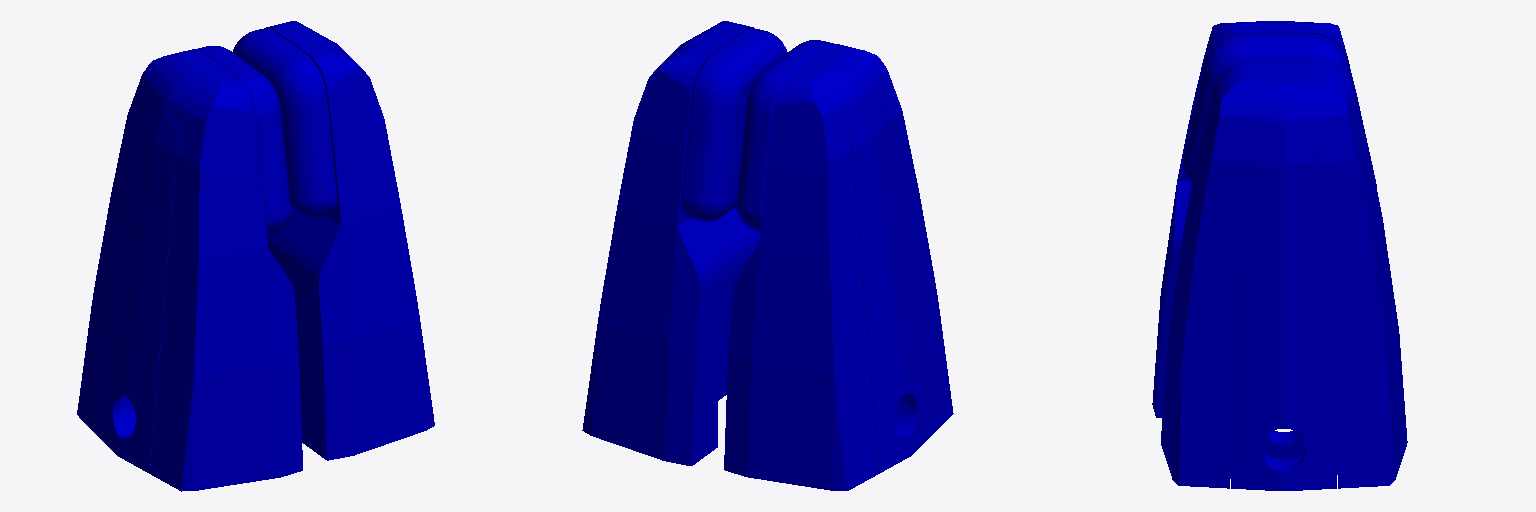
URDF robot description (iiwa14):
<?xml version="1.0" ?>
<!-- =================================================================================== -->
<!-- |    This document was autogenerated by xacro from iiwa14.urdf.xacro              | -->
<!-- |    EDITING THIS FILE BY HAND IS NOT RECOMMENDED                                 | -->
<!-- =================================================================================== -->
<robot name="iiwa14">
  <material name="Black">
    <color rgba="0.0 0.0 0.0 1.0"/>
  </material>
  <material name="Blue">
    <color rgba="0.0 0.0 0.8 1.0"/>
  </material>
  <material name="Green">
    <color rgba="0.0 0.8 0.0 1.0"/>
  </material>
  <material name="Grey">
    <color rgba="0.4 0.4 0.4 1.0"/>
  </material>
  <material name="Orange">
    <color rgba="1.0 0.4235294117647059 0.0392156862745098 1.0"/>
  </material>
  <material name="Brown">
    <color rgba="0.8705882352941177 0.8117647058823529 0.7647058823529411 1.0"/>
  </material>
  <material name="Red">
    <color rgba="0.8 0.0 0.0 1.0"/>
  </material>
  <material name="White">
    <color rgba="1.0 1.0 1.0 1.0"/>
  </material>
  <!-- Fix to world just for testing -->
  <link name="world"/>
  <!--joint between {parent} and link_0-->
  <joint name="world_joint" type="fixed">
    <origin rpy="0 0 0" xyz="0 0 0.0"/>
    <parent link="world"/>
    <child link="link_0"/>
  </joint>
  <link name="link_0">
    <inertial>
      <origin rpy="0 0 0" xyz="-0.1 0 0.07"/>
      <mass value="5"/>
      <inertia ixx="0.05" ixy="0" ixz="0" iyy="0.06" iyz="0" izz="0.03"/>
    </inertial>
    <visual>
      <origin rpy="0 0 0" xyz="0 0 0"/>
      <geometry>
        <mesh filename="model://isir-iiwa14/meshes/iiwa14/visual/link_0.stl"/>
      </geometry>
      <material name="Grey"/>
    </visual>
    <collision>
      <origin rpy="0 0 0" xyz="0 0 0"/>
      <geometry>
        <mesh filename="model://isir-iiwa14/meshes/iiwa14/collision/link_0_s.stl"/>
      </geometry>
      <material name="Grey"/>
    </collision>
    <self_collision_checking>
      <origin rpy="0 0 0" xyz="0 0 0"/>
      <geometry>
        <capsule length="0.25" radius="0.15"/>
      </geometry>
    </self_collision_checking>
  </link>
  <!-- joint between link_0 and link_1 -->
  <joint name="joint_0" type="revolute">
    <parent link="link_0"/>
    <child link="link_1"/>
    <origin rpy="0 0 0" xyz="0 0 0.1575"/>
    <axis xyz="0 0 1"/>
    <limit effort="300" lower="-2.9670597283903604" upper="2.9670597283903604" velocity="10"/>
    <safety_controller k_position="100" k_velocity="2" soft_lower_limit="-2.9321531433504737" soft_upper_limit="2.9321531433504737"/>
    <dynamics damping="0.0" friction="0.0"/>
  </joint>
  <link name="link_1">
    <inertial>
      <origin rpy="0 0 0" xyz="0 -0.03 0.12"/>
      <mass value="4"/>
      <inertia ixx="0.1" ixy="0" ixz="0" iyy="0.09" iyz="0" izz="0.02"/>
    </inertial>
    <visual>
      <origin rpy="0 0 0" xyz="0 0 0"/>
      <geometry>
        <mesh filename="model://isir-iiwa14/meshes/iiwa14/visual/link_1.stl"/>
      </geometry>
      <material name="Orange"/>
    </visual>
    <collision>
      <origin rpy="0 0 0" xyz="0 0 0"/>
      <geometry>
        <mesh filename="model://isir-iiwa14/meshes/iiwa14/collision/link_1_s.stl"/>
      </geometry>
      <material name="Orange"/>
    </collision>
  </link>
  <!-- joint between link_1 and link_2 -->
  <joint name="joint_1" type="revolute">
    <parent link="link_1"/>
    <child link="link_2"/>
    <origin rpy="1.5707963267948966   0 3.141592653589793" xyz="0 0 0.2025"/>
    <axis xyz="0 0 1"/>
    <limit effort="300" lower="-2.0943951023931953" upper="2.0943951023931953" velocity="10"/>
    <safety_controller k_position="100" k_velocity="2" soft_lower_limit="-2.0594885173533086" soft_upper_limit="2.0594885173533086"/>
    <dynamics damping="0.0" friction="0.0"/>
  </joint>
  <link name="link_2">
    <inertial>
      <origin rpy="0 0 0" xyz="0.0003 0.059 0.042"/>
      <mass value="4"/>
      <inertia ixx="0.05" ixy="0" ixz="0" iyy="0.018" iyz="0" izz="0.044"/>
    </inertial>
    <visual>
      <origin rpy="0 0 0" xyz="0 0 0"/>
      <geometry>
        <mesh filename="model://isir-iiwa14/meshes/iiwa14/visual/link_2.stl"/>
      </geometry>
      <material name="Orange"/>
    </visual>
    <collision>
      <origin rpy="0 0 0" xyz="0 0 0"/>
      <geometry>
        <mesh filename="model://isir-iiwa14/meshes/iiwa14/collision/link_2_s.stl"/>
      </geometry>
      <material name="Orange"/>
    </collision>
  </link>
  <!-- joint between link_2 and link_3 -->
  <joint name="joint_2" type="revolute">
    <parent link="link_2"/>
    <child link="link_3"/>
    <origin rpy="1.5707963267948966 0 3.141592653589793" xyz="0 0.2045 0"/>
    <axis xyz="0 0 1"/>
    <limit effort="300" lower="-2.9670597283903604" upper="2.9670597283903604" velocity="10"/>
    <safety_controller k_position="100" k_velocity="2" soft_lower_limit="-2.9321531433504737" soft_upper_limit="2.9321531433504737"/>
    <dynamics damping="0.0" friction="0.0"/>
  </joint>
  <link name="link_3">
    <inertial>
      <origin rpy="0 0 0" xyz="0 0.03 0.13"/>
      <mass value="3"/>
      <inertia ixx="0.08" ixy="0" ixz="0" iyy="0.075" iyz="0" izz="0.01"/>
    </inertial>
    <visual>
      <origin rpy="0 0 0" xyz="0 0 0"/>
      <geometry>
        <mesh filename="model://isir-iiwa14/meshes/iiwa14/visual/link_3.stl"/>
      </geometry>
      <material name="Orange"/>
    </visual>
    <collision>
      <origin rpy="0 0 0" xyz="0 0 0"/>
      <geometry>
        <mesh filename="model://isir-iiwa14/meshes/iiwa14/collision/link_3_s.stl"/>
      </geometry>
      <material name="Orange"/>
    </collision>
  </link>
  <!-- joint between link_3 and link_4 -->
  <joint name="joint_3" type="revolute">
    <parent link="link_3"/>
    <child link="link_4"/>
    <origin rpy="1.5707963267948966 0 0" xyz="0 0 0.2155"/>
    <axis xyz="0 0 1"/>
    <limit effort="300" lower="-2.0943951023931953" upper="2.0943951023931953" velocity="10"/>
    <safety_controller k_position="100" k_velocity="2" soft_lower_limit="-2.0594885173533086" soft_upper_limit="2.0594885173533086"/>
    <dynamics damping="0.0" friction="0.0"/>
  </joint>
  <link name="link_4">
    <inertial>
      <origin rpy="0 0 0" xyz="0 0.067 0.034"/>
      <mass value="2.7"/>
      <inertia ixx="0.03" ixy="0" ixz="0" iyy="0.01" iyz="0" izz="0.029"/>
    </inertial>
    <visual>
      <origin rpy="0 0 0" xyz="0 0 0"/>
      <geometry>
        <mesh filename="model://isir-iiwa14/meshes/iiwa14/visual/link_4.stl"/>
      </geometry>
      <material name="Orange"/>
    </visual>
    <collision>
      <origin rpy="0 0 0" xyz="0 0 0"/>
      <geometry>
        <mesh filename="model://isir-iiwa14/meshes/iiwa14/collision/link_4_s.stl"/>
      </geometry>
      <material name="Orange"/>
    </collision>
  </link>
  <!-- joint between link_4 and link_5 -->
  <joint name="joint_4" type="revolute">
    <parent link="link_4"/>
    <child link="link_5"/>
    <origin rpy="-1.5707963267948966 3.141592653589793 0" xyz="0 0.1845 0"/>
    <axis xyz="0 0 1"/>
    <limit effort="300" lower="-2.9670597283903604" upper="2.9670597283903604" velocity="10"/>
    <safety_controller k_position="100" k_velocity="2" soft_lower_limit="-2.9321531433504737" soft_upper_limit="2.9321531433504737"/>
    <dynamics damping="0.0" friction="0.0"/>
  </joint>
  <link name="link_5">
    <inertial>
      <origin rpy="0 0 0" xyz="0.0001 0.021 0.076"/>
      <mass value="1.7"/>
      <inertia ixx="0.02" ixy="0" ixz="0" iyy="0.018" iyz="0" izz="0.005"/>
    </inertial>
    <visual>
      <origin rpy="0 0 0" xyz="0 0 0"/>
      <geometry>
        <mesh filename="model://isir-iiwa14/meshes/iiwa14/visual/link_5.stl"/>
      </geometry>
      <material name="Orange"/>
    </visual>
    <collision>
      <origin rpy="0 0 0" xyz="0 0 0"/>
      <geometry>
        <mesh filename="model://isir-iiwa14/meshes/iiwa14/collision/link_5_s.stl"/>
      </geometry>
      <material name="Orange"/>
    </collision>
  </link>
  <!-- joint between link_5 and link_6 -->
  <joint name="joint_5" type="revolute">
    <parent link="link_5"/>
    <child link="link_6"/>
    <origin rpy="1.5707963267948966 0 0" xyz="0 0 0.2155"/>
    <axis xyz="0 0 1"/>
    <limit effort="300" lower="-2.0943951023931953" upper="2.0943951023931953" velocity="10"/>
    <safety_controller k_position="100" k_velocity="2" soft_lower_limit="-2.0594885173533086" soft_upper_limit="2.0594885173533086"/>
    <dynamics damping="0.0" friction="0.0"/>
  </joint>
  <link name="link_6">
    <inertial>
      <origin rpy="0 0 0" xyz="0 0.0006 0.0004"/>
      <mass value="1.8"/>
      <inertia ixx="0.025" ixy="0" ixz="0" iyy="0.0136" iyz="0" izz="0.0247"/>
    </inertial>
    <visual>
      <origin rpy="0 0 0" xyz="0 0 0"/>
      <geometry>
        <mesh filename="model://isir-iiwa14/meshes/iiwa14/visual/link_6.stl"/>
      </geometry>
      <material name="Orange"/>
    </visual>
    <collision>
      <origin rpy="0 0 0" xyz="0 0 0"/>
      <geometry>
        <mesh filename="model://isir-iiwa14/meshes/iiwa14/collision/link_6_s.stl"/>
      </geometry>
      <material name="Orange"/>
    </collision>
  </link>
  <!-- joint between link_6 and link_7 -->
  <joint name="joint_6" type="revolute">
    <parent link="link_6"/>
    <child link="link_7"/>
    <origin rpy="-1.5707963267948966 3.141592653589793 0" xyz="0 0.081 0"/>
    <axis xyz="0 0 1"/>
    <limit effort="300" lower="-3.0543261909900763" upper="3.0543261909900763" velocity="10"/>
    <safety_controller k_position="100" k_velocity="2" soft_lower_limit="-3.01941960595019" soft_upper_limit="3.01941960595019"/>
    <dynamics damping="0.0" friction="0.0"/>
  </joint>
  <link name="link_7">
    <inertial>
      <origin rpy="0 0 0" xyz="0 0 0.02"/>
      <mass value="0.42857142857142855"/>
      <!--this is for the MFT Pneumatisch flange-->
      <inertia ixx="0.01" ixy="0" ixz="0" iyy="0.01" iyz="0" izz="0.01"/>
    </inertial>
    <visual>
      <origin rpy="0 0 0" xyz="0 0 0"/>
      <geometry>
        <mesh filename="model://isir-iiwa14/meshes/iiwa14/visual/link_7.stl"/>
        <!-- <mesh filename="model://isir-iiwa14/meshes/iiwa14/visual/link_7-MF-Touch-pneumatisch.stl"/> -->
      </geometry>
      <material name="Grey"/>
    </visual>
    <collision>
      <origin rpy="0 0 0" xyz="0 0 0"/>
      <geometry>
        <mesh filename="model://isir-iiwa14/meshes/iiwa14/collision/link_7_s.stl"/>
        <!-- <mesh filename="model://isir-iiwa14/meshes/iiwa14/collision/link_7-MF-Touch-pneumatisch_s.stl"/> -->
      </geometry>
      <material name="Grey"/>
    </collision>
  </link>

  <joint name="iiwa7_joint_ee" type="fixed">
    <parent link="link_7"/>
    <child link="iiwa7_link_ee"/>
    <origin xyz="0 0 0.126" rpy="0 0 0"/>
  </joint>

  <!-- Link0 -->
  <gazebo reference="iiwa_link_0">
    <material>Gazebo/Grey</material>
    <mu1>0.2</mu1>
    <mu2>0.2</mu2>
  </gazebo>
  <!-- Link1 -->
  <gazebo reference="iiwa_link_1">
    <material>Gazebo/Orange</material>
    <mu1>0.2</mu1>
    <mu2>0.2</mu2>
  </gazebo>
  <!-- Link2 -->
  <gazebo reference="iiwa_link_2">
    <material>Gazebo/Orange</material>
    <mu1>0.2</mu1>
    <mu2>0.2</mu2>
  </gazebo>
  <!-- Link3 -->
  <gazebo reference="iiwa_link_3">
    <material>Gazebo/Orange</material>
    <mu1>0.2</mu1>
    <mu2>0.2</mu2>
  </gazebo>
  <!-- Link4 -->
  <gazebo reference="iiwa_link_4">
    <material>Gazebo/Orange</material>
    <mu1>0.2</mu1>
    <mu2>0.2</mu2>
  </gazebo>
  <!-- Link5 -->
  <gazebo reference="iiwa_link_5">
    <material>Gazebo/Orange</material>
    <mu1>0.2</mu1>
    <mu2>0.2</mu2>
  </gazebo>
  <!-- Link6 -->
  <gazebo reference="iiwa_link_6">
    <material>Gazebo/Orange</material>
    <mu1>0.2</mu1>
    <mu2>0.2</mu2>
  </gazebo>
  <!-- Link7 -->
  <gazebo reference="iiwa_link_7">
    <material>Gazebo/Grey</material>
    <mu1>0.2</mu1>
    <mu2>0.2</mu2>
  </gazebo>
  <transmission name="iiwa_tran_1">
    <robotNamespace>/iiwa</robotNamespace>
    <type>transmission_interface/SimpleTransmission</type>
    <joint name="iiwa_joint_1">
      <hardwareInterface>PositionJointInterface</hardwareInterface>
    </joint>
    <actuator name="iiwa_motor_1">
      <hardwareInterface>PositionJointInterface</hardwareInterface>
      <mechanicalReduction>1</mechanicalReduction>
    </actuator>
  </transmission>
  <transmission name="iiwa_tran_2">
    <robotNamespace>/iiwa</robotNamespace>
    <type>transmission_interface/SimpleTransmission</type>
    <joint name="iiwa_joint_2">
      <hardwareInterface>PositionJointInterface</hardwareInterface>
    </joint>
    <actuator name="iiwa_motor_2">
      <hardwareInterface>PositionJointInterface</hardwareInterface>
      <mechanicalReduction>1</mechanicalReduction>
    </actuator>
  </transmission>
  <transmission name="iiwa_tran_3">
    <robotNamespace>/iiwa</robotNamespace>
    <type>transmission_interface/SimpleTransmission</type>
    <joint name="iiwa_joint_3">
      <hardwareInterface>PositionJointInterface</hardwareInterface>
    </joint>
    <actuator name="iiwa_motor_3">
      <hardwareInterface>PositionJointInterface</hardwareInterface>
      <mechanicalReduction>1</mechanicalReduction>
    </actuator>
  </transmission>
  <transmission name="iiwa_tran_4">
    <robotNamespace>/iiwa</robotNamespace>
    <type>transmission_interface/SimpleTransmission</type>
    <joint name="iiwa_joint_4">
      <hardwareInterface>PositionJointInterface</hardwareInterface>
    </joint>
    <actuator name="iiwa_motor_4">
      <hardwareInterface>PositionJointInterface</hardwareInterface>
      <mechanicalReduction>1</mechanicalReduction>
    </actuator>
  </transmission>
  <transmission name="iiwa_tran_5">
    <robotNamespace>/iiwa</robotNamespace>
    <type>transmission_interface/SimpleTransmission</type>
    <joint name="iiwa_joint_5">
      <hardwareInterface>PositionJointInterface</hardwareInterface>
    </joint>
    <actuator name="iiwa_motor_5">
      <hardwareInterface>PositionJointInterface</hardwareInterface>
      <mechanicalReduction>1</mechanicalReduction>
    </actuator>
  </transmission>
  <transmission name="iiwa_tran_6">
    <robotNamespace>/iiwa</robotNamespace>
    <type>transmission_interface/SimpleTransmission</type>
    <joint name="iiwa_joint_6">
      <hardwareInterface>PositionJointInterface</hardwareInterface>
    </joint>
    <actuator name="iiwa_motor_6">
      <hardwareInterface>PositionJointInterface</hardwareInterface>
      <mechanicalReduction>1</mechanicalReduction>
    </actuator>
  </transmission>
  <transmission name="iiwa_tran_7">
    <robotNamespace>/iiwa</robotNamespace>
    <type>transmission_interface/SimpleTransmission</type>
    <joint name="iiwa_joint_7">
      <hardwareInterface>PositionJointInterface</hardwareInterface>
    </joint>
    <actuator name="iiwa_motor_7">
      <hardwareInterface>PositionJointInterface</hardwareInterface>
      <mechanicalReduction>1</mechanicalReduction>
    </actuator>
  </transmission>

  <!-- SCHUNK EGP 40 EEF -->
  <!-- Base -->
  <link name="iiwa7_link_ee">
    <inertial>
      <mass value="0.6" />
      <origin rpy="0 0 0" xyz="0.00078059 -0.00070996 0.04726637" />
      <inertia ixx="0.0011357" ixy="-0.00000024461" ixz="0.000014912" iyy="0.0012832" iyz="0.0000085651" izz="0.00066545" />
    </inertial>
    <visual>
      <origin rpy="0 0 0" xyz="0 0 0" />
      <geometry>
        <mesh filename="model://schunk-egp-40/meshes/visual/obj/schunk_low_baked_small.obj" scale="1 1 1" />
      </geometry>
      <material name="white">
        <color rgba="1 1 1 1"/>
      </material>
    </visual>
    <collision>
      <origin rpy="0 0 0" xyz="0 0 0" />
      <geometry>
        <mesh filename="model://schunk-egp-40/meshes/visual/dae/schunk-egp-40-collision.dae" scale="1 1 1" />
      </geometry>
    </collision>
  </link>

  <!-- Finger 1 -->
  <link name="SchunkEGP40_Finger1_link">
    <inertial>
      <mass value="0.04" />
      <origin rpy="0 0 0" xyz="0 0 0" />
      <inertia ixx="0.0000013454" ixy="0" ixz="0" iyy="0.00000061207" iyz="0" izz="0.00000097333" />
    </inertial>
    <visual>
      <origin rpy="0 0 0" xyz="0 0 0" />
      <geometry>
        <mesh filename="model://schunk-egp-40/meshes/visual/dae/schunk-egp-40-finger-base.dae" scale="1 1 1" />
      </geometry>
      <material name="black">
        <color rgba="0 0 0 1"/>
      </material>
    </visual>
    <visual>
      <origin rpy="0 0 0" xyz="0 0 0" />
      <geometry>
        <mesh filename="model://schunk-egp-40/meshes/visual/obj/schunk_coact_finger_1.obj" scale="1 1 1" />
      </geometry>
      <material name="schunk_coact_finger_1_blue">
        <color rgba="0 0 0.8 1"/>
      </material>
    </visual>
    <collision>
      <origin rpy="0 0 0" xyz="0 0.0005 0.006075" />
      <geometry>
        <box size="0.006 0.016 0.01215" />
      </geometry>
    </collision>
    <collision>
      <origin rpy="0 0 0" xyz="0 0.0005 0.006075" />
      <geometry>
        <mesh filename="model://schunk-egp-40/meshes/visual/obj/schunk_coact_finger_1.obj" scale="1 1 1" />
      </geometry>
    </collision>
  </link>

  <!-- Finger 2 -->
  <link name="SchunkEGP40_Finger2_link">
    <inertial>
      <mass value="0.04" />
      <origin rpy="0 0 0" xyz="0 0 0" />
      <inertia ixx="0.0000013454" ixy="0" ixz="0" iyy="0.00000061207" iyz="0" izz="0.00000097333" />
    </inertial>
    <visual>
      <origin rpy="0 0 0" xyz="0 0 0" />
      <geometry>
        <mesh filename="model://schunk-egp-40/meshes/visual/dae/schunk-egp-40-finger-base.dae" scale="1 1 1" />
      </geometry>
      <material name="black">
        <color rgba="0 0 0 1"/>
      </material>
    </visual>
    <visual>
      <origin rpy="0 0 0" xyz="0 0 0" />
      <geometry>
        <mesh filename="model://schunk-egp-40/meshes/visual/obj/schunk_coact_finger_1.obj" scale="1 1 1" />
      </geometry>
      <material name="schunk_coact_finger_1_blue">
        <color rgba="0 0 0.8 1"/>
      </material>
    </visual>
    <collision>
      <origin rpy="0 0 0" xyz="0 0.0005 0.006075" />
      <geometry>
        <box size="0.006 0.016 0.01215" />
      </geometry>
    </collision>
    <collision>
      <origin rpy="0 0 0" xyz="0 0.0005 0.006075" />
      <geometry>
        <mesh filename="model://schunk-egp-40/meshes/visual/obj/schunk_coact_finger_1.obj" scale="1 1 1" />
      </geometry>
    </collision>
  </link>

  <!-- Finger Joint 1 -->
  <joint name="SchunkEGP40_Finger1_joint" type="prismatic">
    <origin xyz="0.006800 0.000500 0.108000" rpy="0 0 0" />
    <axis xyz="1 0 0" />
    <limit effort="1" lower="0" upper="0.01" velocity="-1" />
    <dynamics damping="1.0" />
    <parent link="iiwa7_link_ee" />
    <child link="SchunkEGP40_Finger1_link" />
  </joint>
  <gazebo reference="SchunkEGP40_Finger1_joint">
    <provideFeedback>1</provideFeedback>
    <implicitSpringDamper>1</implicitSpringDamper>
  </gazebo>

  <!-- Finger Joint 2 -->
  <joint name="SchunkEGP40_Finger2_joint" type="prismatic">
    <origin xyz="-0.006800 0.000500 0.108000" rpy="0 0 3.14" />
    <axis xyz="1 0 0" />
    <limit effort="1" lower="0" upper="0.01" velocity="-1" />
    <dynamics damping="1.0" />
    <parent link="iiwa7_link_ee" />
    <child link="SchunkEGP40_Finger2_link" />
  </joint>
  <gazebo reference="SchunkEGP40_Finger2_joint">
    <provideFeedback>1</provideFeedback>
    <implicitSpringDamper>1</implicitSpringDamper>
  </gazebo>
</robot>

--- What the picture shows (computed from the rendered views, not written in the file) ---
Views: 3 orthographic renders of the robot side by side, from view 1: azimuth 30°, elevation 25°; view 2: azimuth 150°, elevation 25°; view 3: azimuth 270°, elevation 25°.
Model iiwa14 with 12 links and 11 joints (7 revolute, 2 prismatic, 2 fixed), rooted at world, posed all joints at 0.
Visible links, largest first — view 1: SchunkEGP40_Finger2_link, SchunkEGP40_Finger1_link; view 2: SchunkEGP40_Finger2_link, SchunkEGP40_Finger1_link; view 3: SchunkEGP40_Finger1_link, SchunkEGP40_Finger2_link.
Link boxes in pixels (x1,y1,x2,y2): SchunkEGP40_Finger2_link: (77,46,302,491); SchunkEGP40_Finger1_link: (233,21,434,460); SchunkEGP40_Finger2_link: (724,40,953,490); SchunkEGP40_Finger1_link: (582,21,787,465); SchunkEGP40_Finger1_link: (1161,62,1407,490); SchunkEGP40_Finger2_link: (1152,21,1359,417).
Size in the robot's own frame: 0.0399 by 0.031 by 0.05 metres.
Meshes: 11 distinct files referenced, 2 mesh visuals loaded (1 OBJ); not drawn: 11 (reference not matched to a file when rendering).